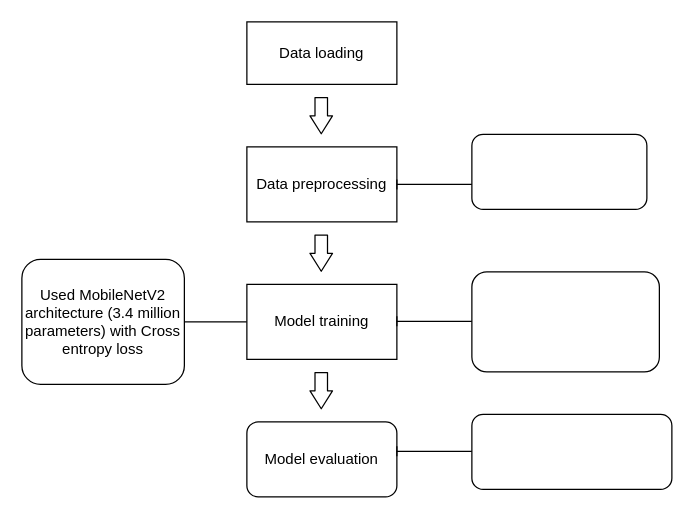
Some shapes in this 694 by 519 pixel diagram are drawn without their labels. The centre of each missing label's shape, as x and y in pixels:
Evaluate model on test data using accuracy metric: point (571, 451)
Rotation, Cropping, and Normalization: point (559, 171)
Used different optimizers: SGD, variants of Adam, and variants of SGLD: point (565, 321)
